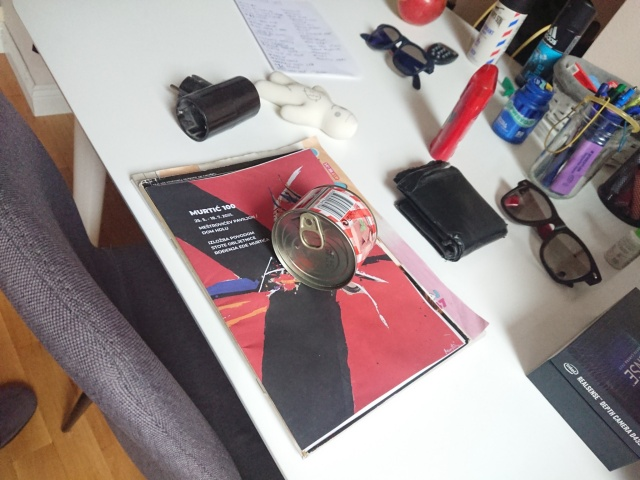Podravka Luncheon Meat 150g: (268, 182, 380, 294)
